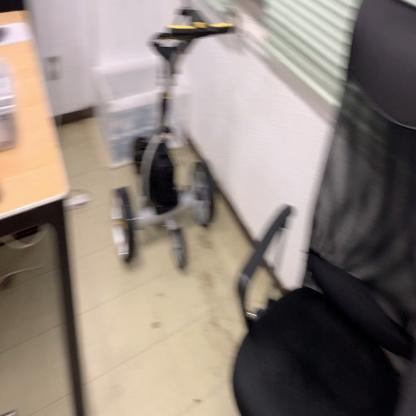chair: (231, 1, 416, 416)
